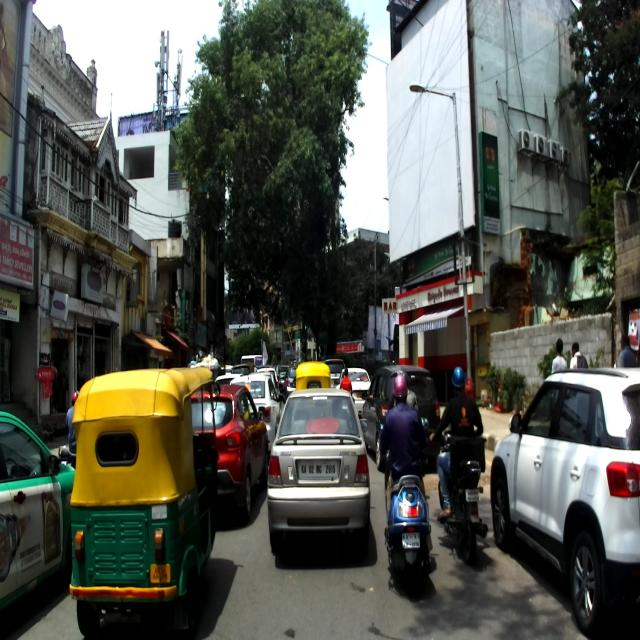autorickshaw: (69, 364, 220, 637)
car: (490, 367, 640, 633), (268, 389, 372, 556), (0, 410, 76, 608), (189, 384, 268, 524)
motorcycle: (421, 416, 488, 562)
scooter: (376, 416, 436, 596)
